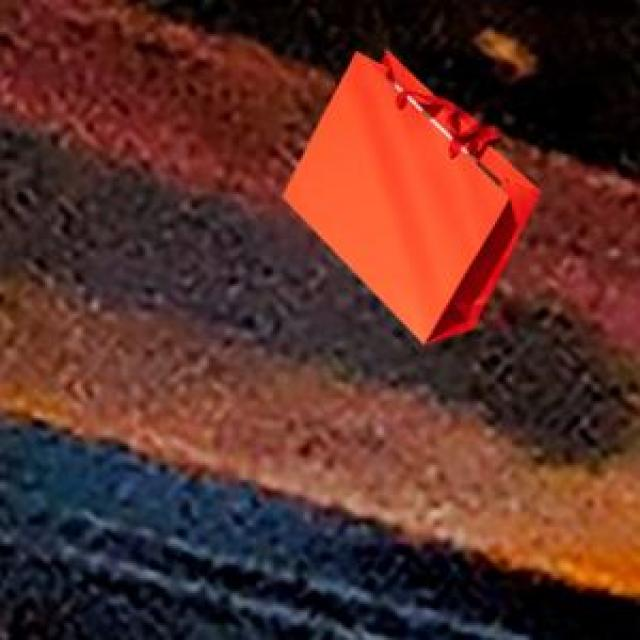Paper -Biodegradable-: (284, 52, 541, 344)
